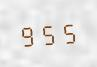five: (39, 20, 58, 46), (59, 19, 78, 44)
nine: (18, 22, 37, 47)
